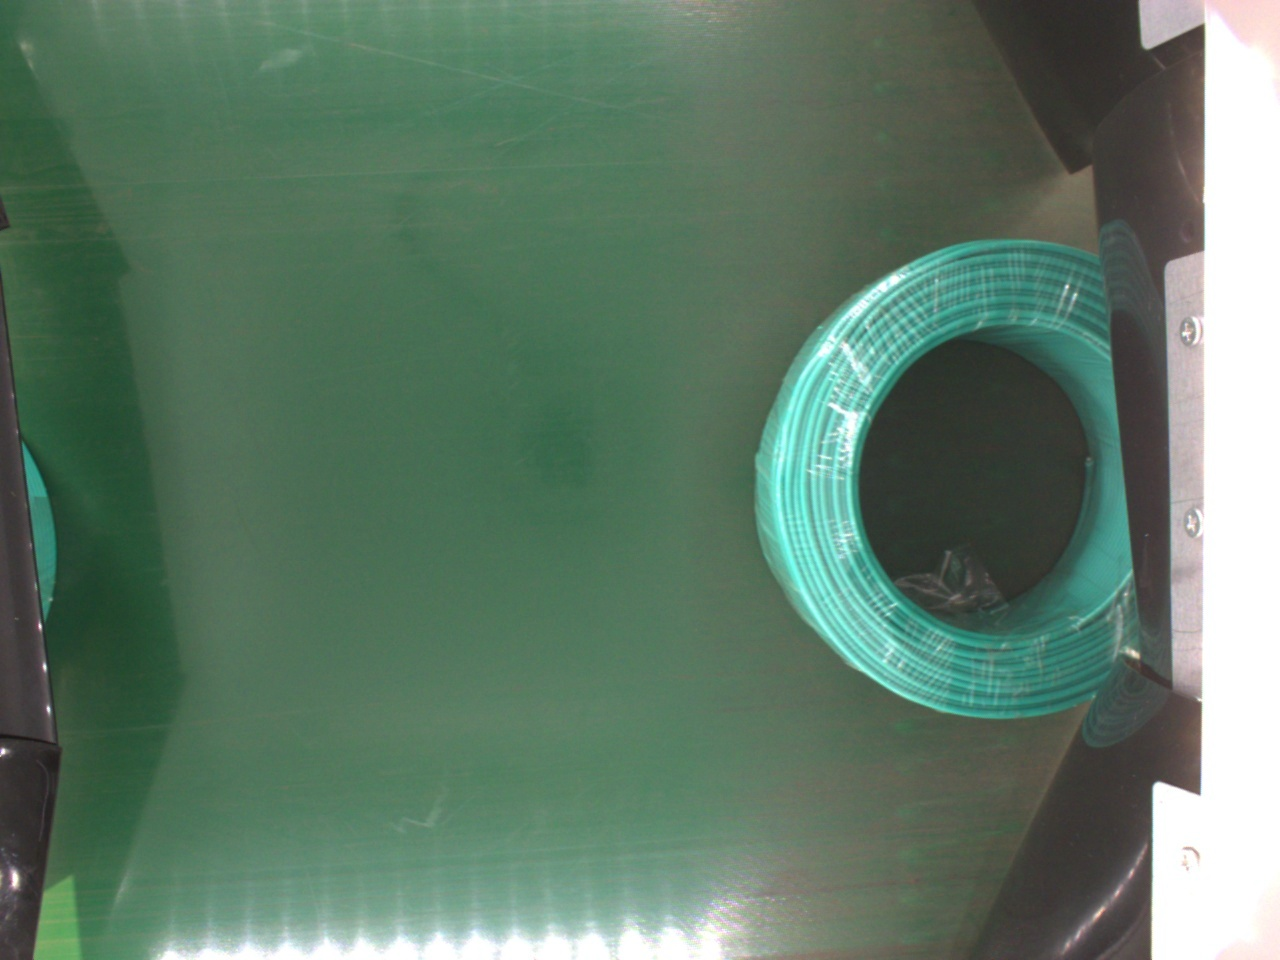green: (747, 236, 1136, 726)
